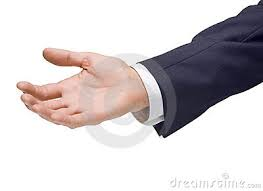hand: (10, 38, 162, 138)
